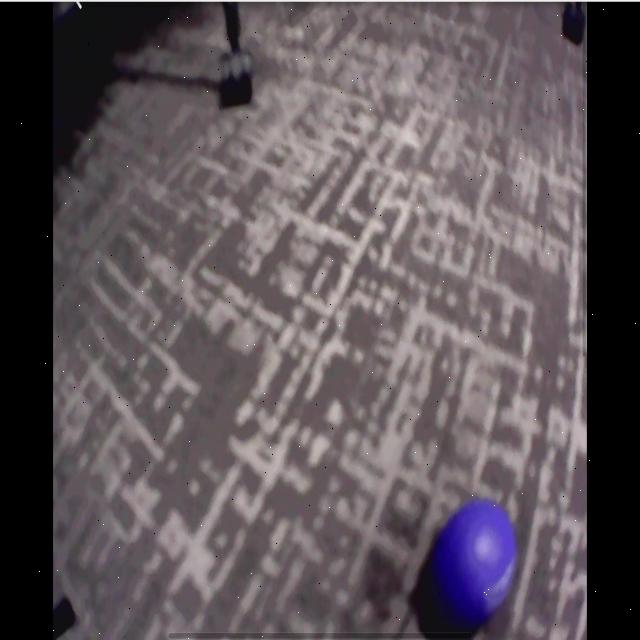ball: (444, 500, 521, 620)
